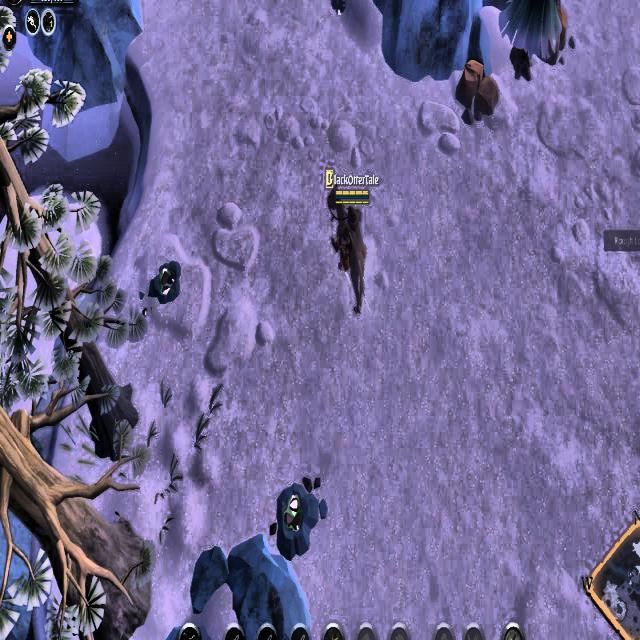limestone: (456, 58, 499, 119), (540, 0, 568, 66)
